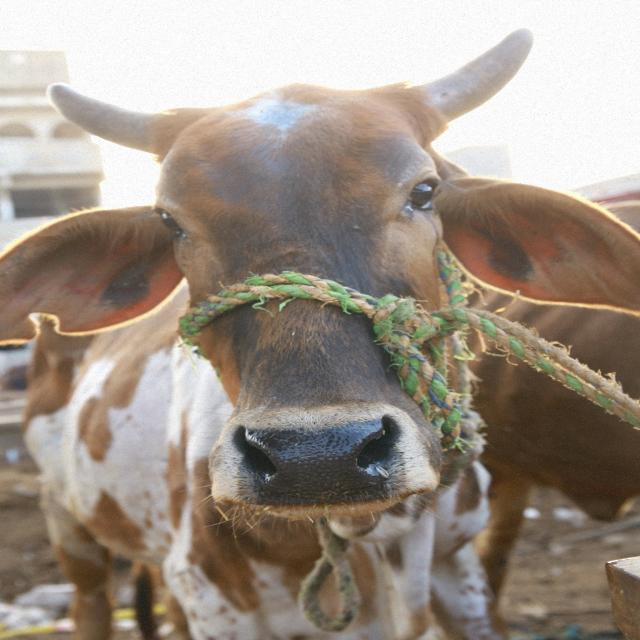muzzles: (221, 406, 418, 509)
